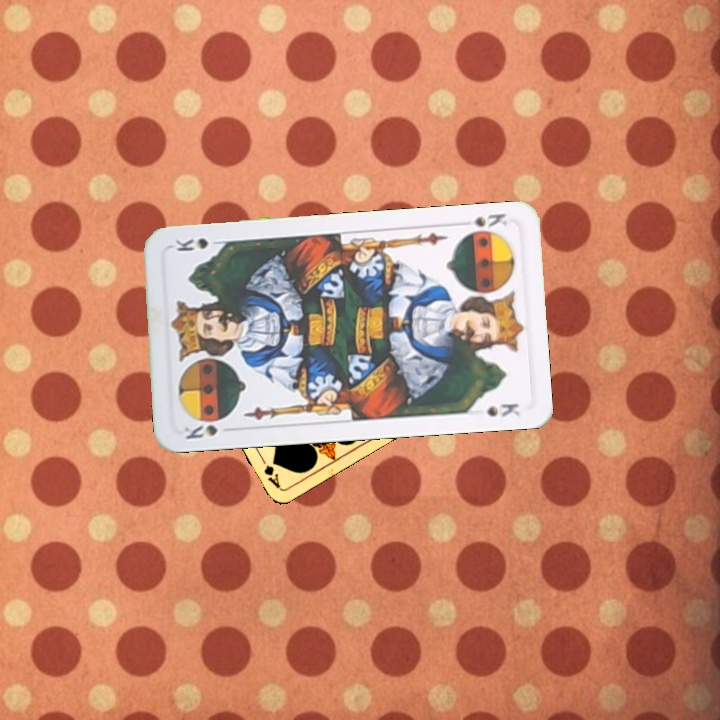SK: (455, 209, 510, 238), (180, 421, 237, 442)
